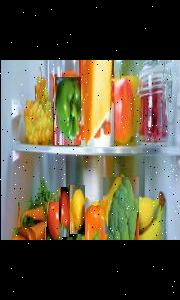Brocoli: (103, 177, 139, 240)
Limón: (69, 185, 84, 234)
Manzana: (110, 66, 136, 144)
Tomate: (57, 188, 72, 238), (44, 202, 61, 240)
Zanahoria: (18, 202, 46, 227), (10, 228, 36, 240)
